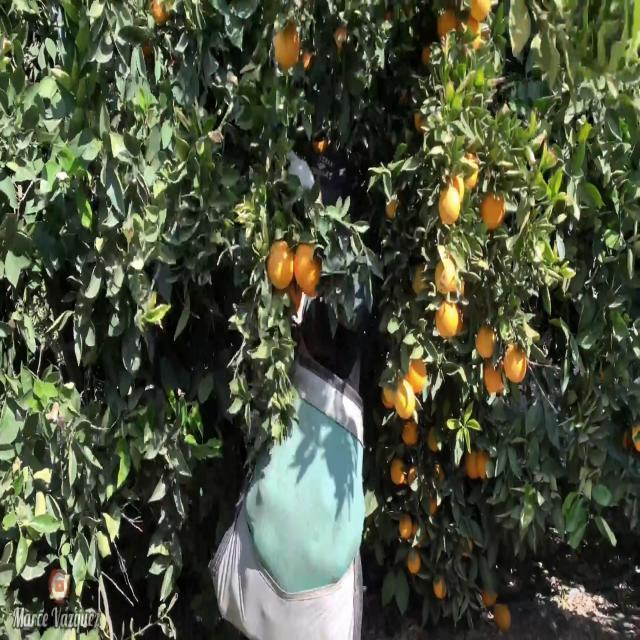Jeruk Sudah Matang: (294, 237, 324, 302), (264, 238, 294, 288), (272, 18, 303, 66), (436, 183, 461, 228), (502, 344, 528, 384), (479, 189, 504, 229), (433, 298, 459, 336), (482, 362, 510, 394), (435, 256, 457, 290), (491, 598, 513, 630), (476, 324, 496, 359), (436, 12, 458, 42), (466, 1, 493, 23), (462, 451, 478, 479), (390, 455, 404, 485), (400, 422, 419, 444), (398, 514, 412, 540), (407, 552, 422, 574), (435, 576, 448, 600), (427, 426, 441, 448)
